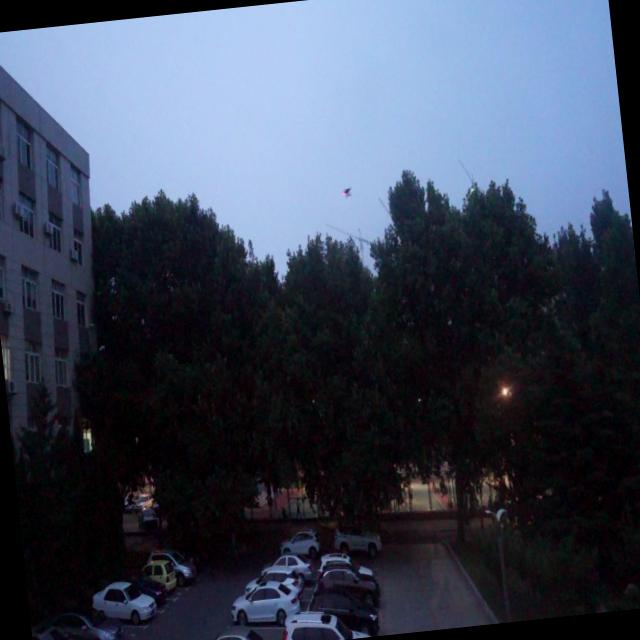drone: (340, 183, 353, 200)
